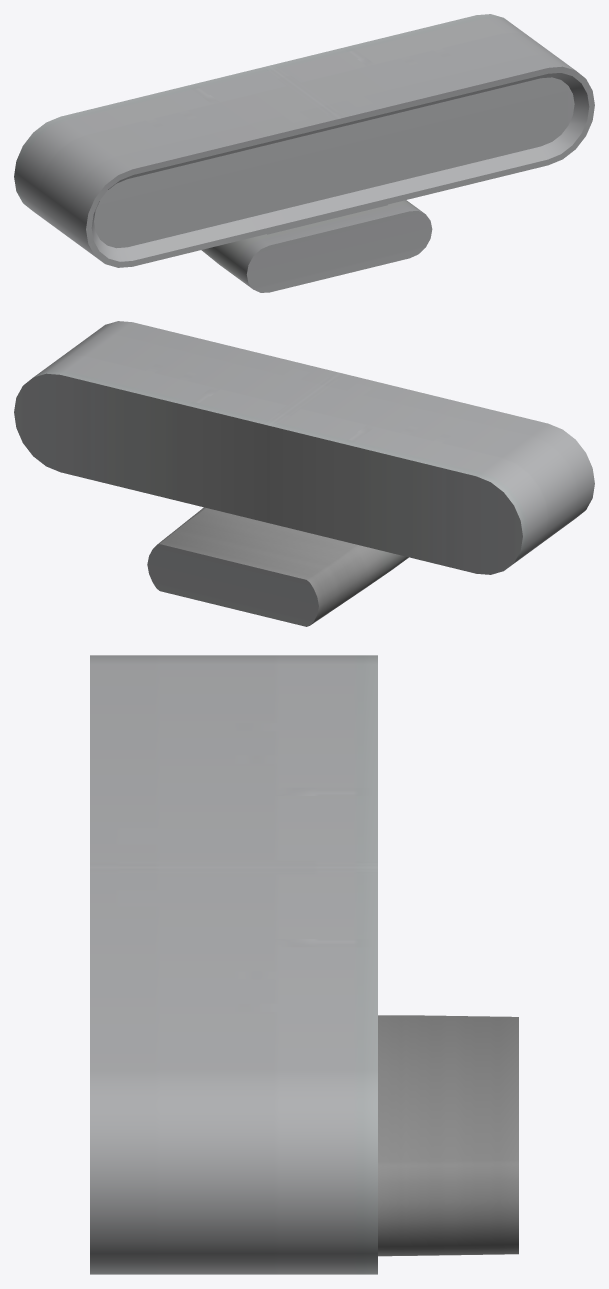
File: 3dCamera.DAE
3 views of the same model, one above another, from view 1: azimuth 30°, elevation 25°; view 2: azimuth 150°, elevation 25°; view 3: azimuth 270°, elevation 25° (orthographic). The views are drawn at different scales.
Visible parts, largest first — view 1: FBXASC051dCamera; view 2: FBXASC051dCamera; view 3: FBXASC051dCamera.
Boxes of the visible parts, x1,y1,x2,y2 form: FBXASC051dCamera: (14,14,594,292); FBXASC051dCamera: (14,321,594,626); FBXASC051dCamera: (90,655,518,1274).
Size of the model in its own units: 16.54 by 6.04 by 4.89.
1 material, 1 textured.
